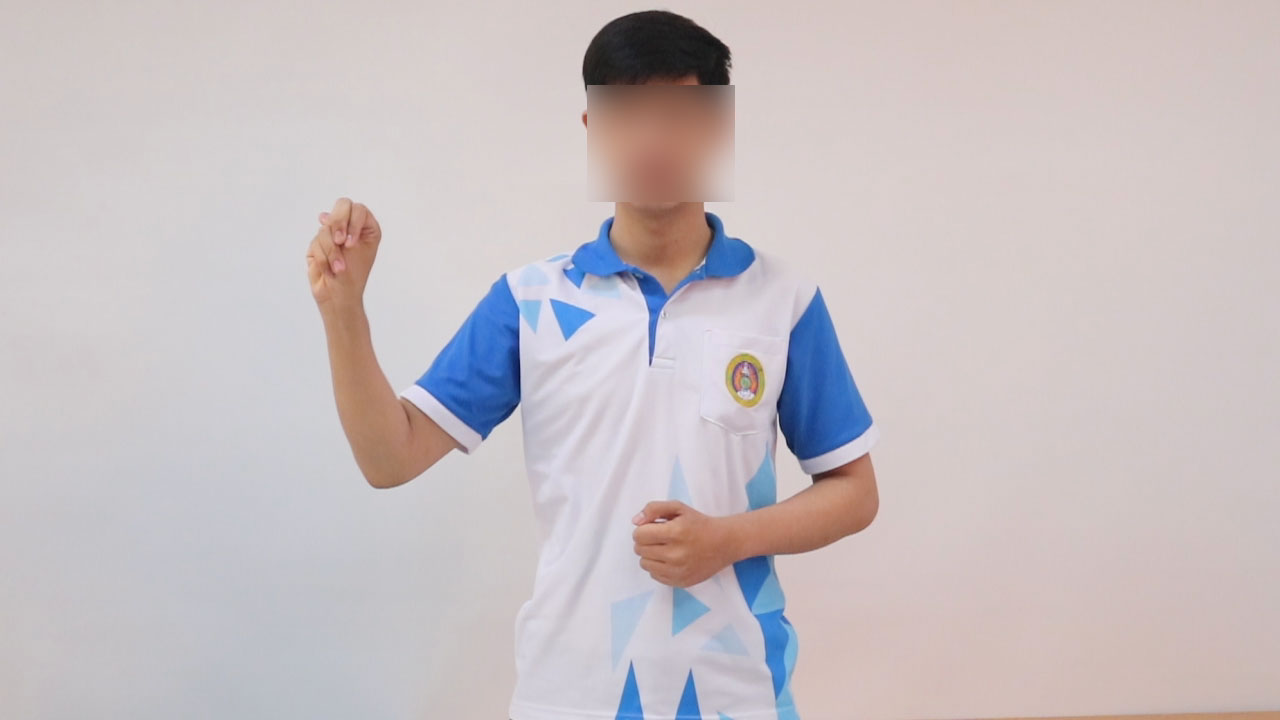nor: (296, 185, 389, 322)
